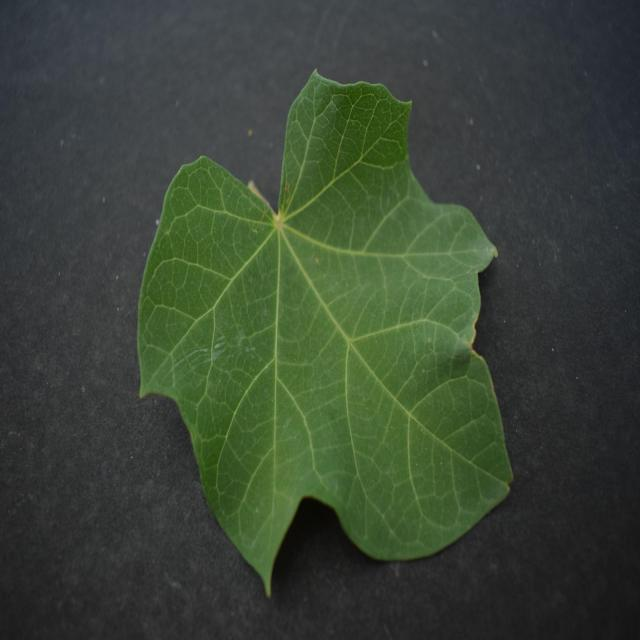healthy: (138, 71, 511, 592)
